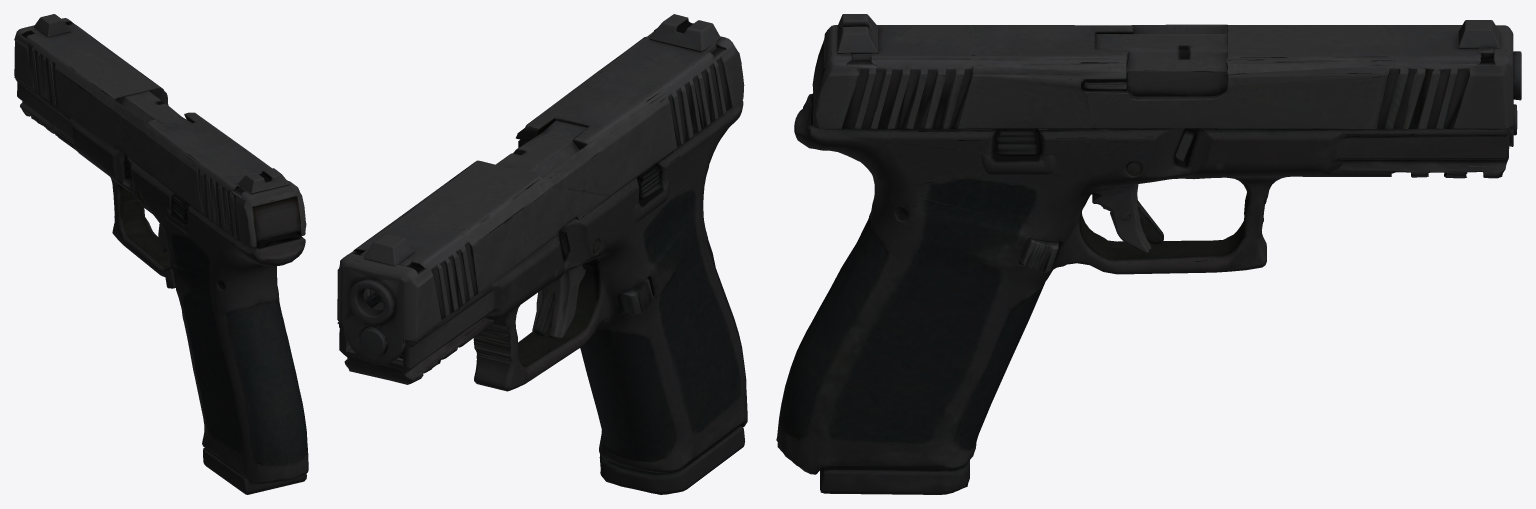
Rendered from arma-policial.glb.
3 renders of one model, left to right at view 1: azimuth 30°, elevation 25°; view 2: azimuth 150°, elevation 25°; view 3: azimuth 270°, elevation 25°, orthographic. The views are drawn at different scales.
Parts seen in each view (by area): view 1: arma-policial; view 2: arma-policial; view 3: arma-policial.
Boxes of the visible parts, <box> form: arma-policial: <box>14,14,308,494</box>; arma-policial: <box>337,14,747,494</box>; arma-policial: <box>776,14,1521,494</box>.
Size of the model in its own units: 0.034 by 0.1467 by 0.22.
1 material, 1 textured.
